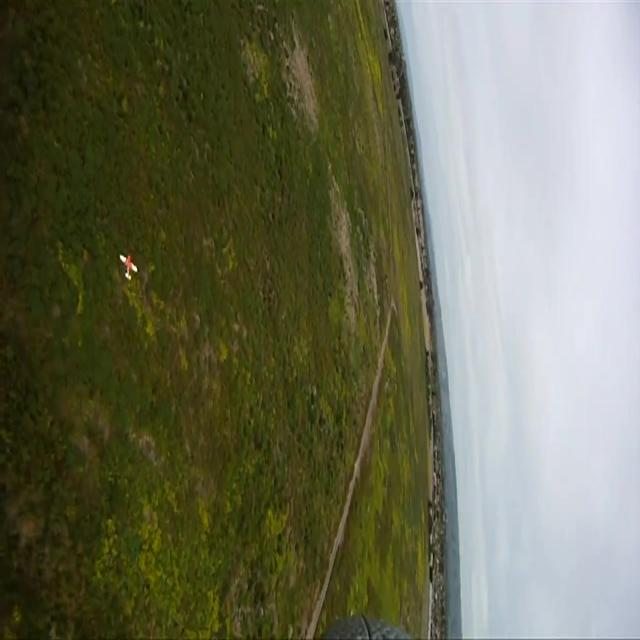iha: (118, 245, 141, 277)
